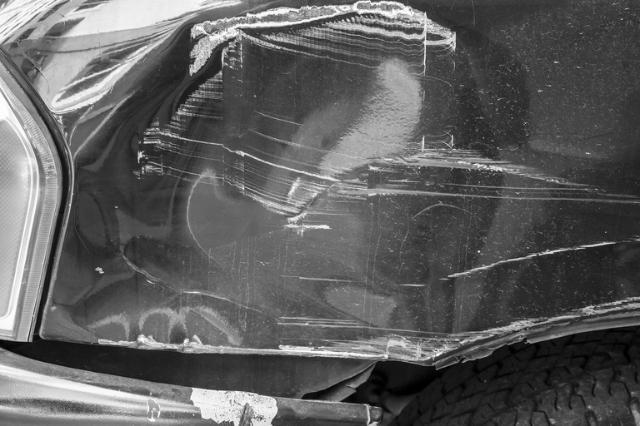Fender: (47, 0, 594, 368)
